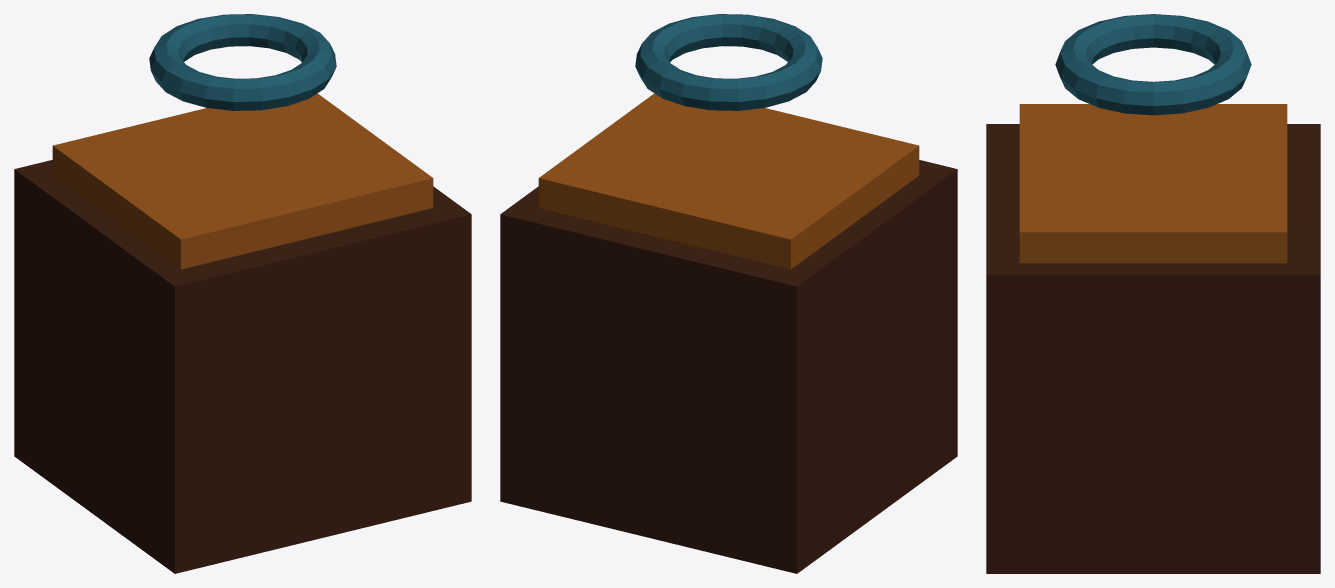
Rendered from desk.obj.
3 renders of one model, left to right at view 1: azimuth 30°, elevation 25°; view 2: azimuth 150°, elevation 25°; view 3: azimuth 270°, elevation 25°, orthographic. The views are drawn at different scales.
Parts seen in each view (by area): view 1: dark_wood, brass, glass; view 2: dark_wood, brass, glass; view 3: dark_wood, brass, glass.
Part boxes in pixels (x1,y1,x2,y2): dark_wood: (14, 160, 471, 573); brass: (52, 93, 433, 269); glass: (149, 14, 336, 110); dark_wood: (500, 160, 957, 573); brass: (538, 93, 919, 269); glass: (635, 14, 822, 110); dark_wood: (986, 124, 1320, 573); brass: (1019, 104, 1287, 263); glass: (1055, 14, 1251, 115).
Bounding box in the file's own units: 0.8 × 1.11 × 0.75.
